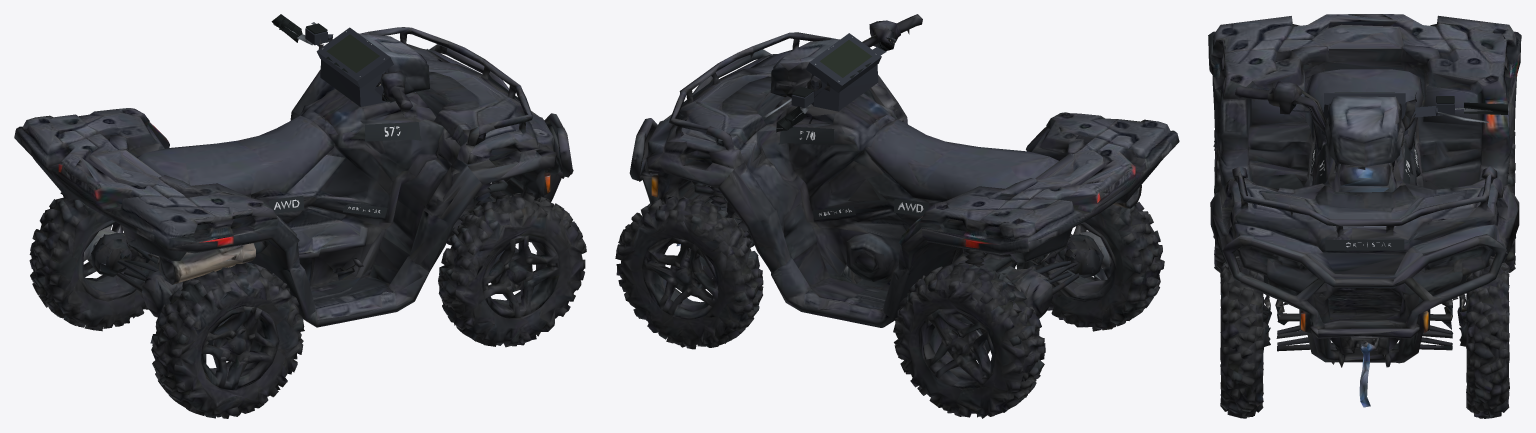
Rendered from north-star-570.glb.
3 views of the same model, side by side, from view 1: azimuth 30°, elevation 25°; view 2: azimuth 150°, elevation 25°; view 3: azimuth 270°, elevation 25° (orthographic). The views are drawn at different scales.
Parts seen in each view (by area): view 1: SM_NorthStar570_Body_glb; view 2: SM_NorthStar570_Body_glb; view 3: SM_NorthStar570_Body_glb.
Boxes of the visible parts, x1=… form: SM_NorthStar570_Body_glb: x1=14, y1=14, x2=586, y2=418; SM_NorthStar570_Body_glb: x1=615, y1=14, x2=1179, y2=418; SM_NorthStar570_Body_glb: x1=1208, y1=14, x2=1521, y2=418.
Size of the model in its own units: 2.11 by 1.19 by 1.22.
Materials: 1 (1 with a texture image).
